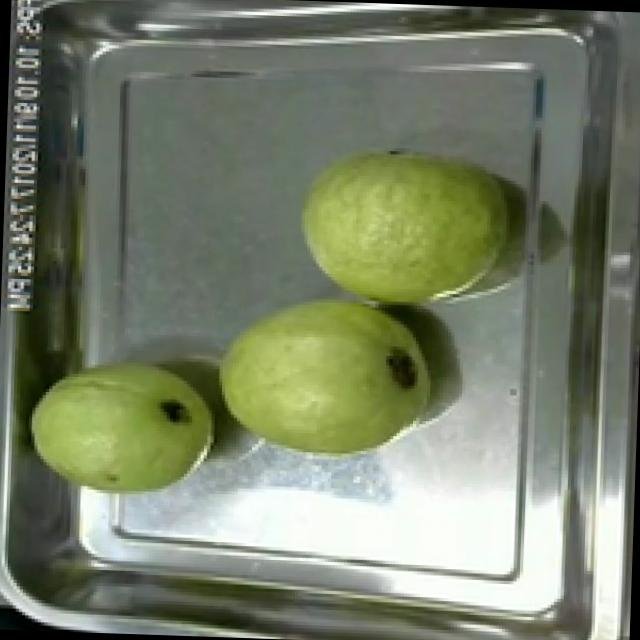Fruit: (203, 284, 446, 471), (285, 136, 518, 324), (12, 342, 226, 508)
